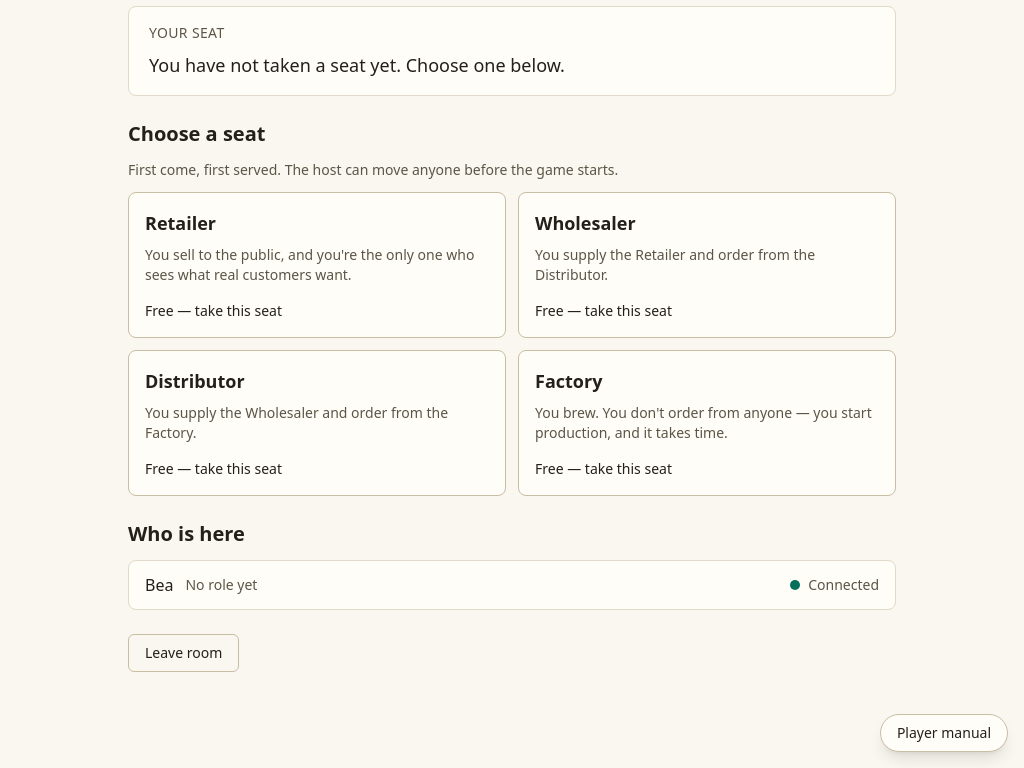
CRITERION 14 / FAILURE MODE 3: the claim is never optimistic › reads the refusal from the store, not from a listener of its own
(page scrolled)
Step 1. Click the button that starts with "Distributor" → (317, 423), box x1=128 y1=350 x2=506 y2=496
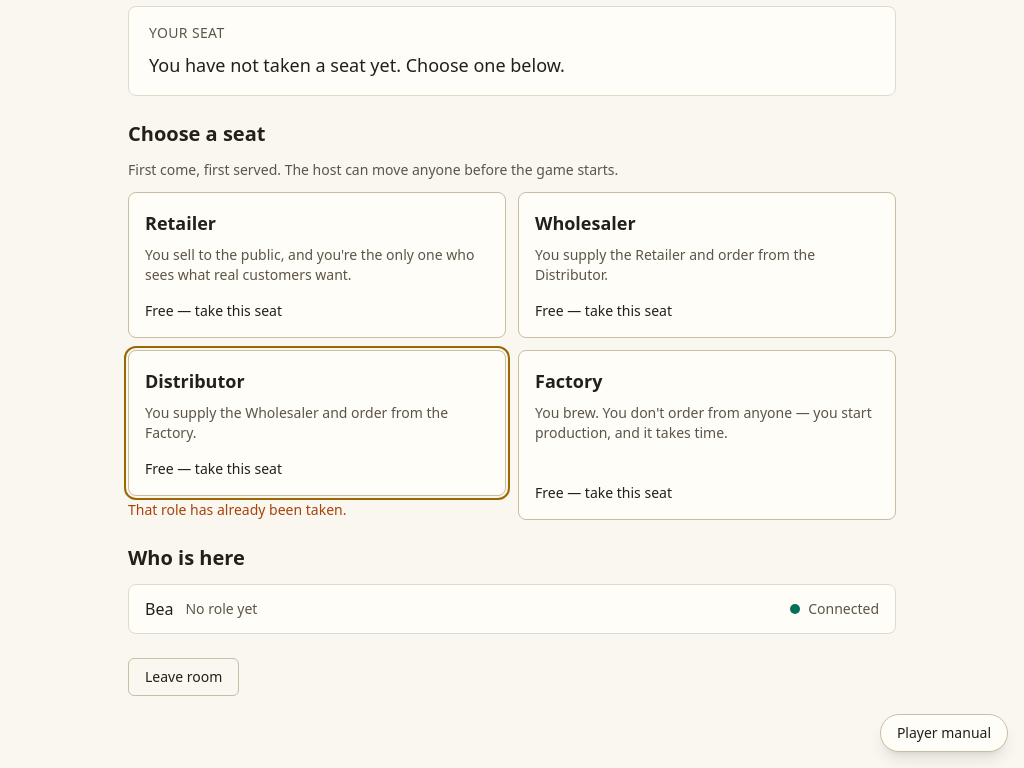
Now the text "already been taken" is shown, box x1=128 y1=500 x2=346 y2=519
Now the message "That role has already been taken." is shown, box x1=128 y1=500 x2=346 y2=519
